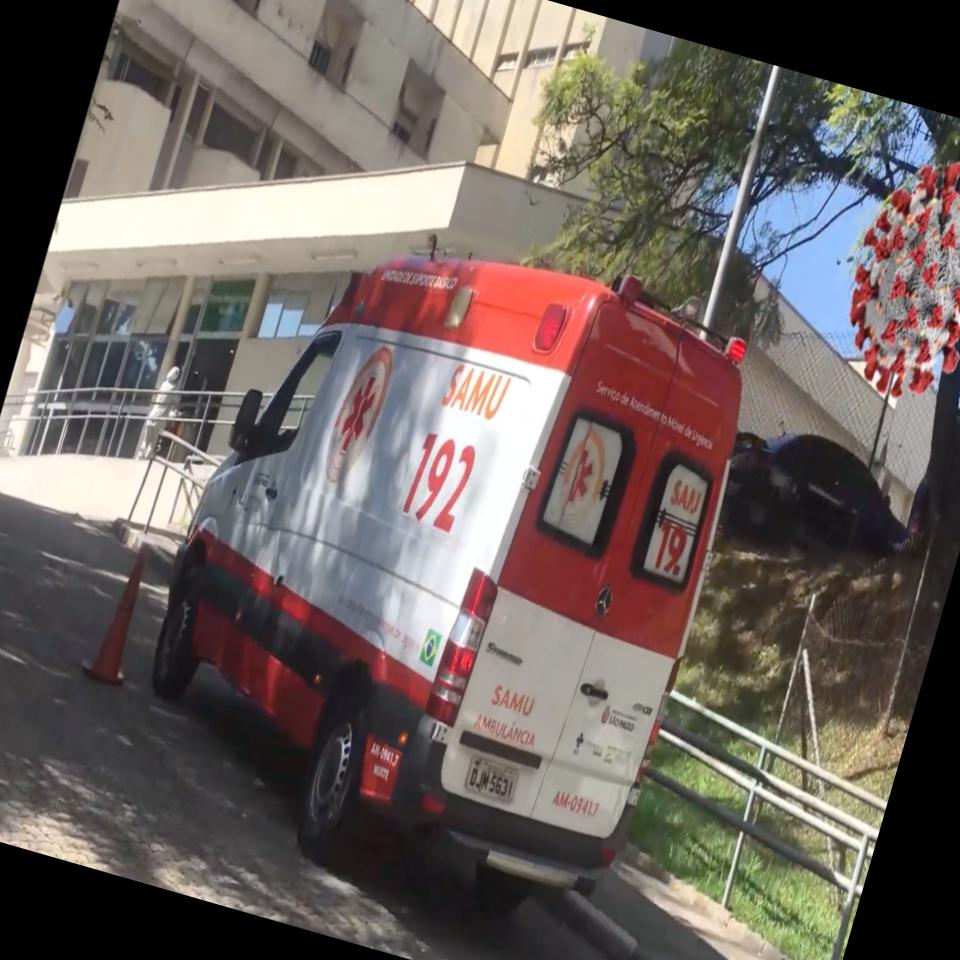bombeiro: (110, 172, 783, 931)
